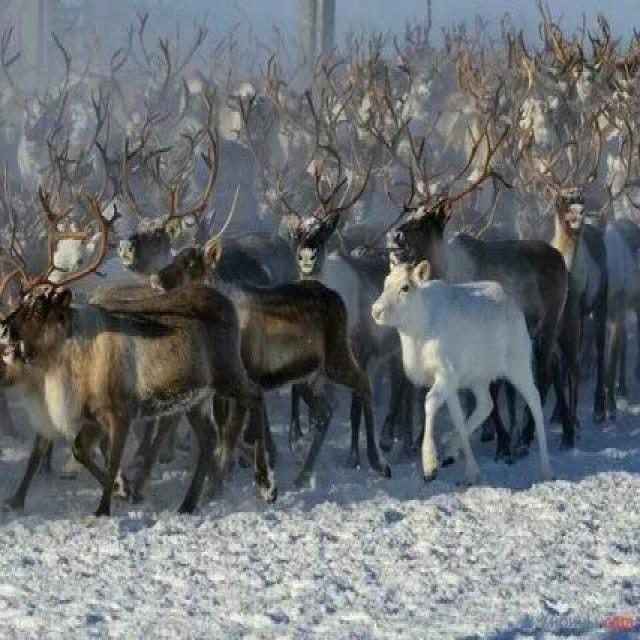deer: (0, 290, 265, 482), (384, 223, 567, 492), (168, 255, 381, 436), (134, 207, 306, 353), (280, 200, 430, 353), (539, 170, 640, 389), (36, 213, 184, 360)
